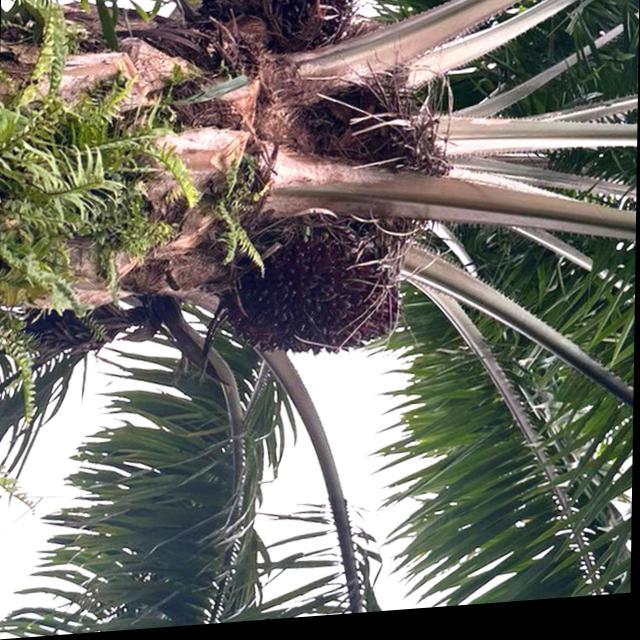ripe: (211, 200, 424, 383)
